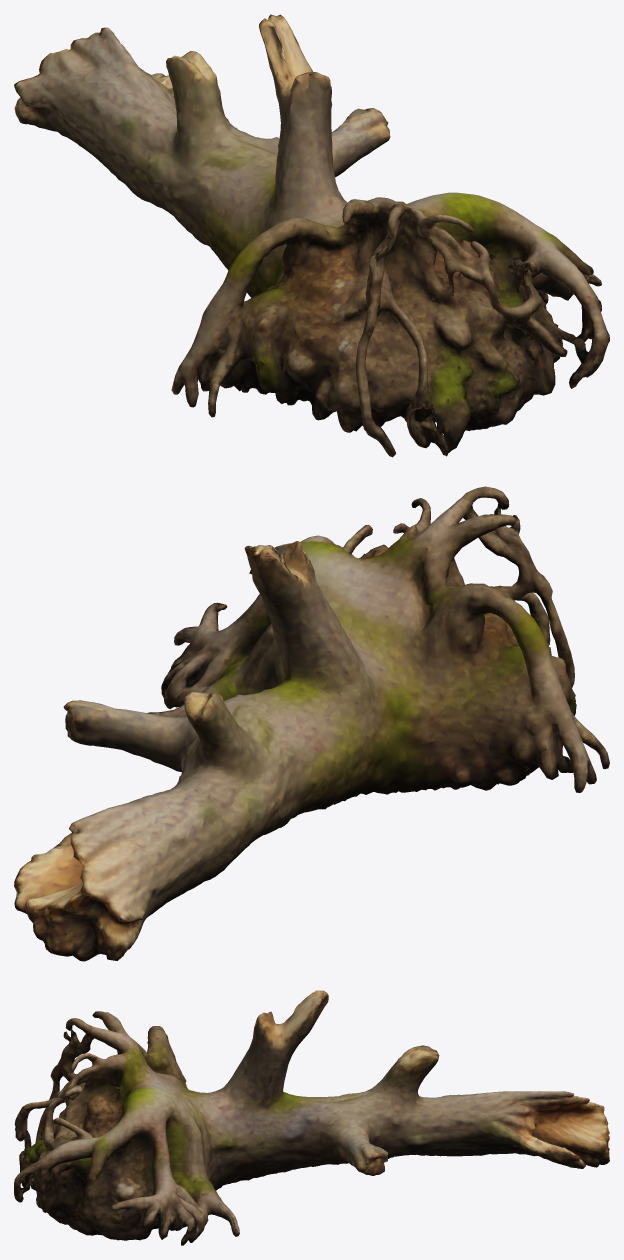
The picture shows the model from 3 angles, top to bottom: view 1: azimuth 30°, elevation 25°; view 2: azimuth 150°, elevation 25°; view 3: azimuth 270°, elevation 25°; orthographic projection. The views are drawn at different scales.
Parts seen in each view (by area): view 1: world; view 2: world; view 3: world.
Boxes of the visible parts, x1=… form: world: x1=14, y1=14, x2=609, y2=457; world: x1=14, y1=486, x2=609, y2=961; world: x1=14, y1=990, x2=609, y2=1245.
Bounding box in the file's own units: 2.54 × 1.79 × 4.5.
1 material, 1 textured.
